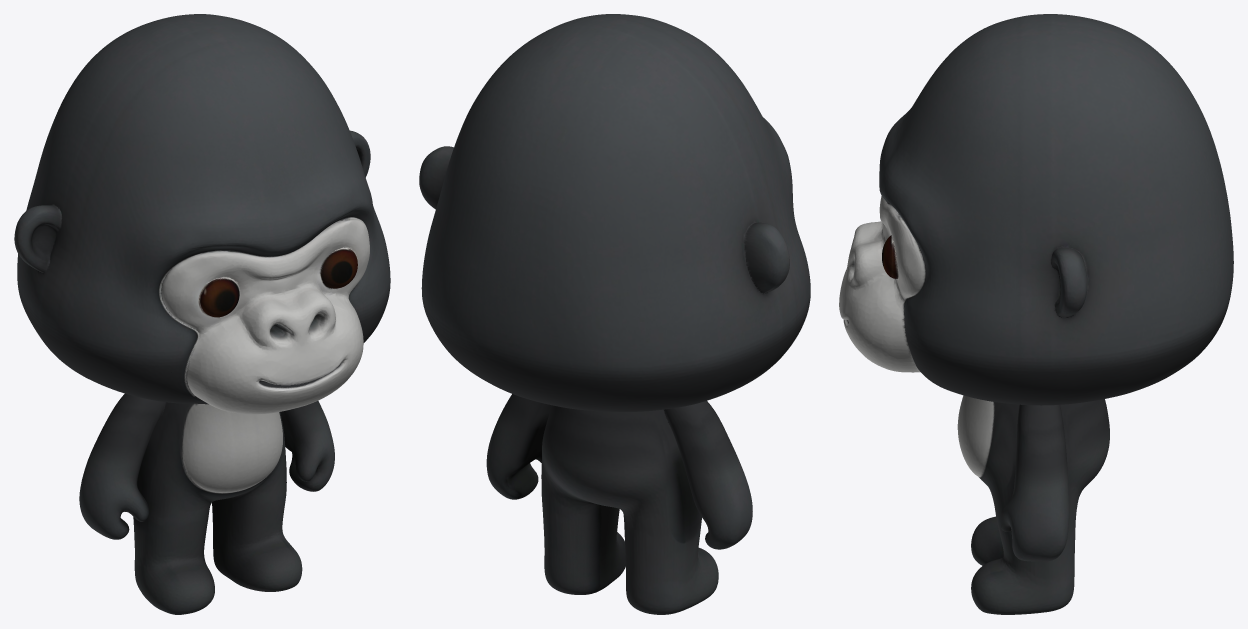
The model's file is gorilla-static.glb.
3 renders of one model, left to right at view 1: azimuth 30°, elevation 25°; view 2: azimuth 150°, elevation 25°; view 3: azimuth 270°, elevation 25°, orthographic. The views are drawn at different scales.
Visible parts, largest first — view 1: tripo_node_31c0e9be-654c-4cc8-a8b8-5647d9aca770; view 2: tripo_node_31c0e9be-654c-4cc8-a8b8-5647d9aca770; view 3: tripo_node_31c0e9be-654c-4cc8-a8b8-5647d9aca770.
Boxes of the visible parts, x1,y1,x2,y2 form: tripo_node_31c0e9be-654c-4cc8-a8b8-5647d9aca770: (14, 14, 390, 614); tripo_node_31c0e9be-654c-4cc8-a8b8-5647d9aca770: (419, 14, 810, 614); tripo_node_31c0e9be-654c-4cc8-a8b8-5647d9aca770: (839, 14, 1233, 614).
Size of the model in its own units: 0.6617 by 0.9796 by 0.6319.
1 material, 1 textured.
